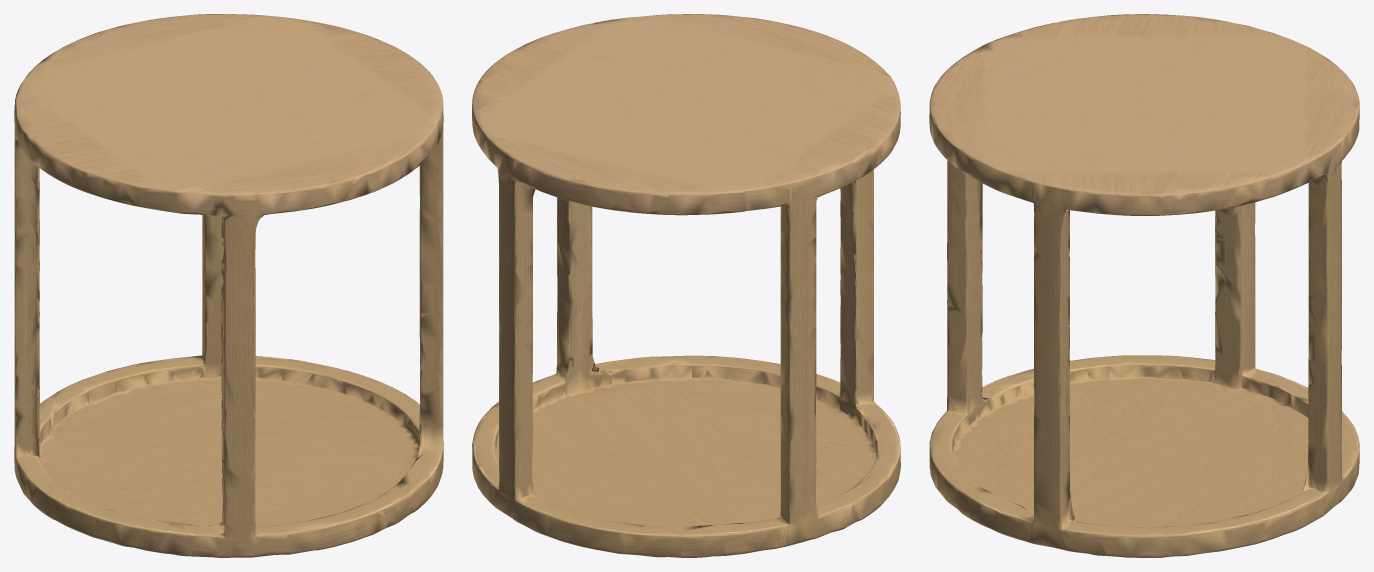
Rendered from Circular Side Table.glb.
3 views of the same model, side by side, from view 1: azimuth 30°, elevation 25°; view 2: azimuth 150°, elevation 25°; view 3: azimuth 270°, elevation 25° (orthographic).
Visible parts, largest first — view 1: Mesh_0.003; view 2: Mesh_0.003; view 3: Mesh_0.003.
Part boxes in pixels (<box>): Mesh_0.003: <box>14,14,443,557</box>; Mesh_0.003: <box>472,14,900,557</box>; Mesh_0.003: <box>929,14,1359,557</box>.
Bounding box in the file's own units: 0.5341 × 0.5 × 0.5337.
1 material, 1 textured.
